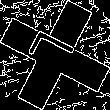L_SE: (26, 30, 84, 80)
